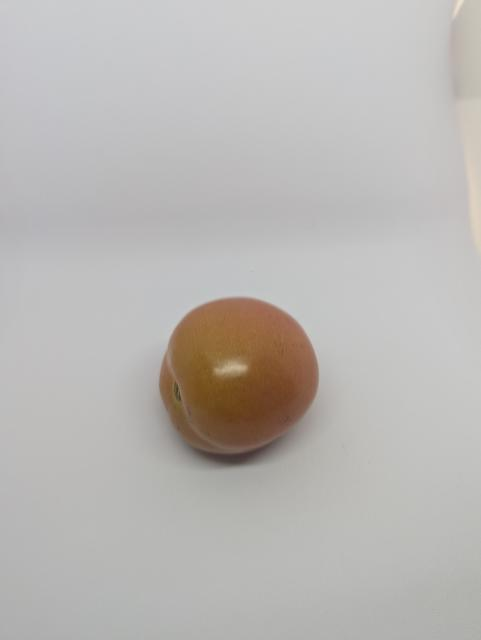turning: (157, 287, 327, 471)
